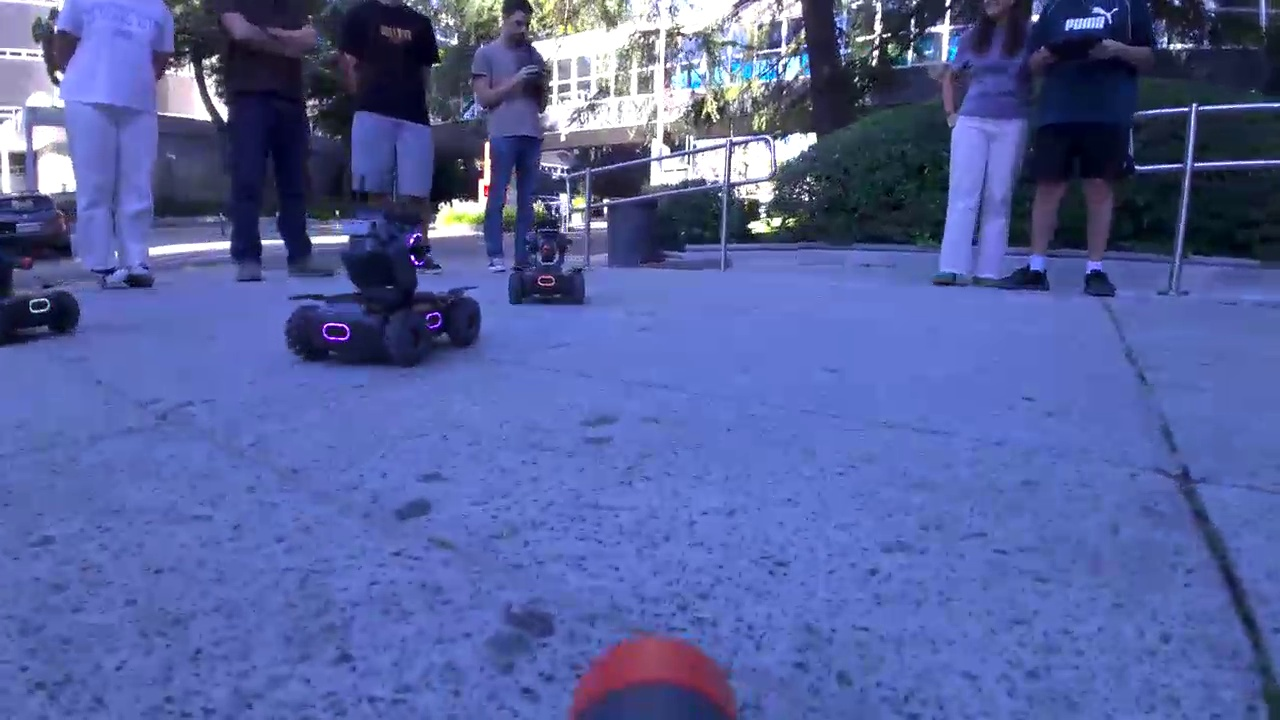robot: (282, 206, 483, 369), (1, 250, 84, 342), (507, 219, 587, 306)
